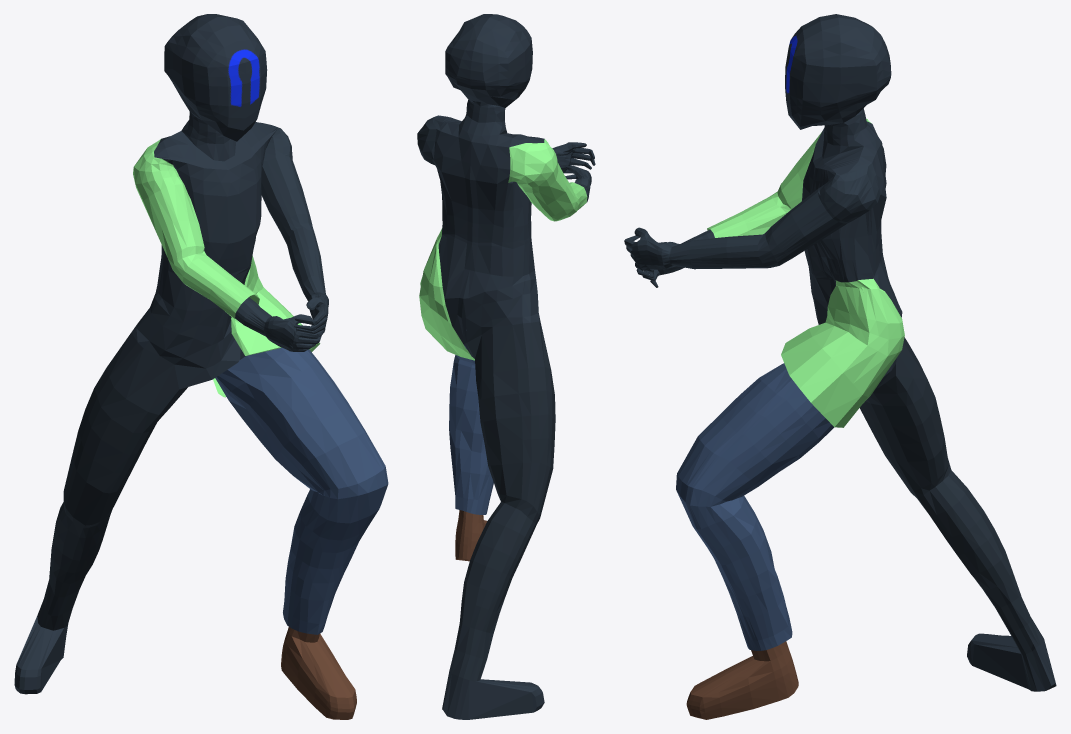
Rendered from Mar_WR_000025.obj.
3 renders of one model, left to right at view 1: azimuth 30°, elevation 25°; view 2: azimuth 150°, elevation 25°; view 3: azimuth 270°, elevation 25°, orthographic. The views are drawn at different scales.
Visible parts, largest first — view 1: Cube.000_Cube.001; view 2: Cube.000_Cube.001; view 3: Cube.000_Cube.001.
Boxes of the visible parts, bbox=[...] form: Cube.000_Cube.001: bbox=[14, 14, 388, 719]; Cube.000_Cube.001: bbox=[417, 14, 595, 719]; Cube.000_Cube.001: bbox=[624, 14, 1056, 719].
Size of the model in its own units: 1.28 by 3.71 by 2.07.
